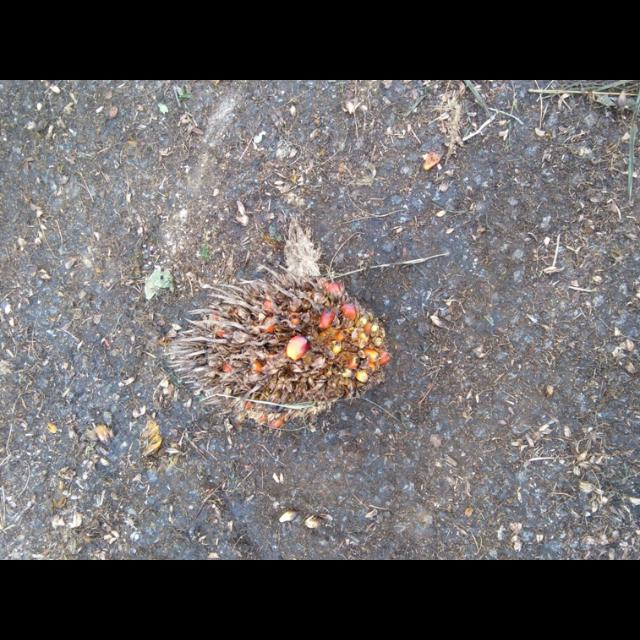Overripe: (169, 220, 389, 428)
